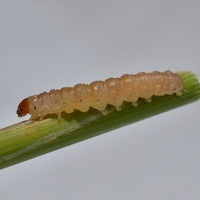insect: (17, 71, 182, 119)
